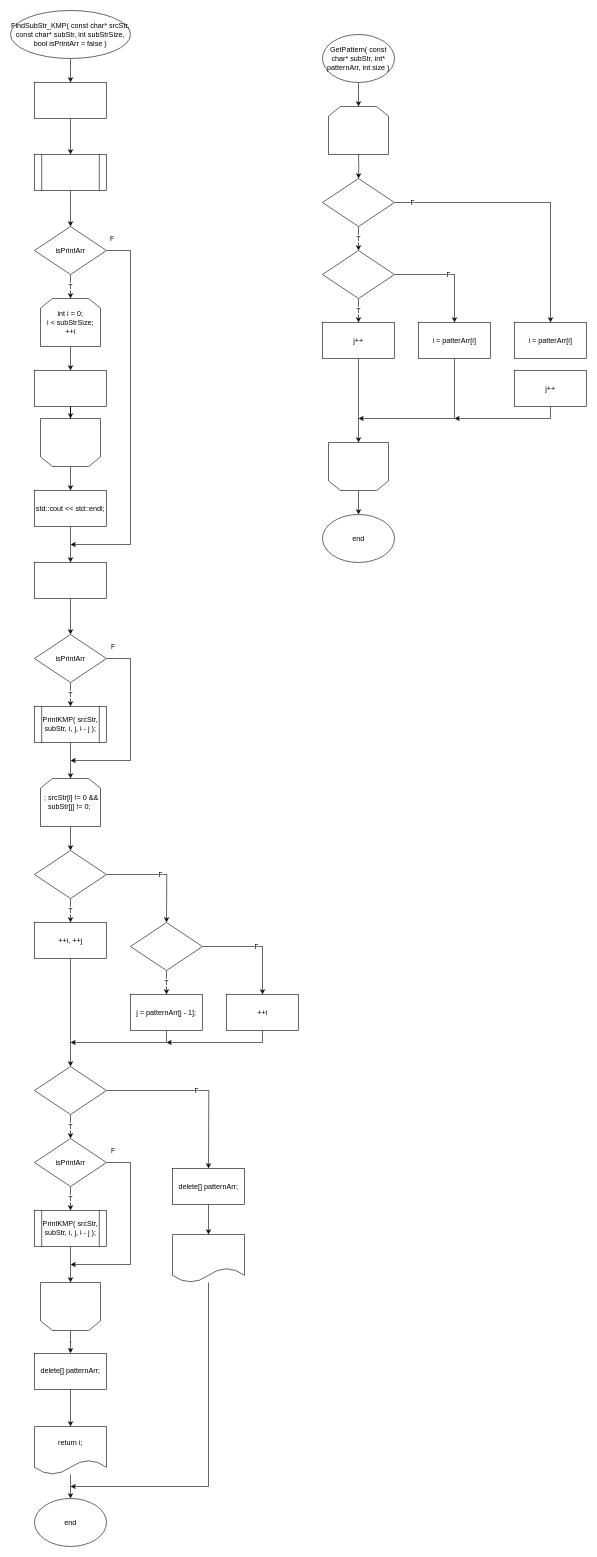
The diagram is 597 pixels wide and 1557 high, and some of its shapes have lost their labels. The centre of each missing label's shape, as x and y in pixels:
GetPattern( subStr, patternArr, subStrSize );: the point at 70,172
i == 0: the point at 358,274
int i = 0, j = 0;: the point at 70,580
int i = 0, j = 1; j < size;: the point at 358,130
int* patternArr = new int[subStrSize]();: the point at 70,100
j != 0: the point at 166,946
return i - j: the point at 208,1258
srcStr[i] == subStr[j]: the point at 70,874
std::cout << patternArr[i] << " ";: the point at 70,388
subStr[i] != subStr[j]: the point at 358,202
subStr[j] == '\0': the point at 70,1090
